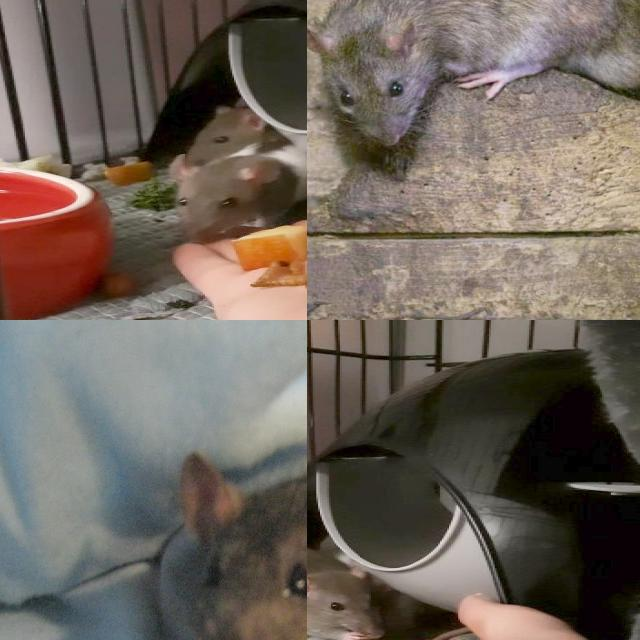rat: (307, 0, 640, 146), (159, 404, 307, 640), (162, 132, 307, 247), (307, 540, 393, 640), (179, 105, 293, 168)
